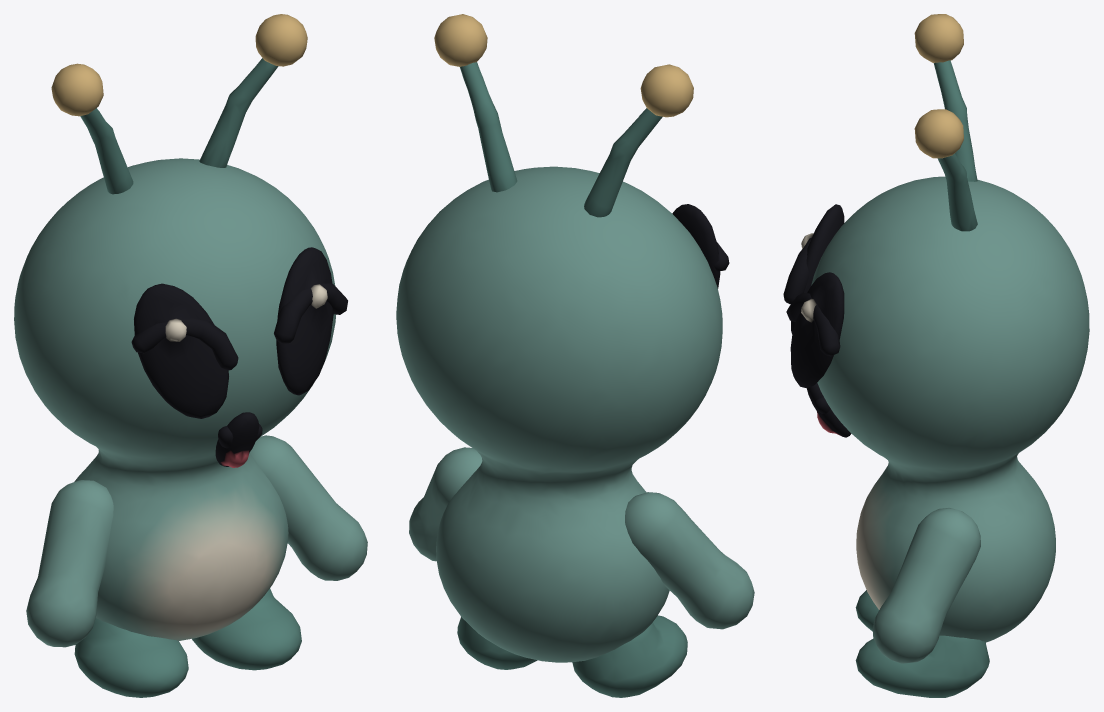
Rendered from rumling.glb.
3 renders of one model, left to right at view 1: azimuth 30°, elevation 25°; view 2: azimuth 150°, elevation 25°; view 3: azimuth 270°, elevation 25°, orthographic. The views are drawn at different scales.
Parts seen in each view (by area): view 1: body_mesh, arm_L_mesh, arm_R_mesh, eye_L, foot_L_mesh, eye_R, foot_R_mesh, antennae, antenna_tips, lid_L, lid_R, mouth_open; view 2: body_mesh, arm_L_mesh, antennae, foot_L_mesh, antenna_tips, arm_R_mesh, foot_R_mesh, eye_L; view 3: body_mesh, arm_R_mesh, foot_R_mesh, antenna_tips, eye_R, antennae, eye_L, lid_R, lid_L, mouth_open, foot_L_mesh.
Boxes of the visible parts, left/top/right/bottom form: body_mesh: left=14, top=158, right=335, bottom=640; arm_L_mesh: left=26, top=480, right=113, bottom=647; arm_R_mesh: left=249, top=435, right=367, bottom=580; eye_L: left=134, top=283, right=228, bottom=418; foot_L_mesh: left=74, top=618, right=188, bottom=697; eye_R: left=276, top=247, right=333, bottom=395; foot_R_mesh: left=192, top=588, right=301, bottom=670; antennae: left=80, top=58, right=278, bottom=194; antenna_tips: left=51, top=14, right=307, bottom=116; lid_L: left=131, top=318, right=238, bottom=370; lid_R: left=274, top=283, right=347, bottom=343; mouth_open: left=215, top=412, right=259, bottom=467; body_mesh: left=396, top=166, right=722, bottom=662; arm_L_mesh: left=625, top=492, right=754, bottom=629; antennae: left=460, top=62, right=662, bottom=217; foot_L_mesh: left=572, top=615, right=687, bottom=697; antenna_tips: left=434, top=14, right=693, bottom=117; arm_R_mesh: left=409, top=447, right=482, bottom=561; foot_R_mesh: left=457, top=617, right=537, bottom=669; eye_L: left=672, top=204, right=720, bottom=288; body_mesh: left=811, top=176, right=1089, bottom=642; arm_R_mesh: left=872, top=508, right=980, bottom=663; foot_R_mesh: left=855, top=635, right=989, bottom=697; antenna_tips: left=914, top=14, right=963, bottom=158; eye_R: left=790, top=272, right=844, bottom=387; antennae: left=933, top=60, right=977, bottom=231; eye_L: left=791, top=204, right=844, bottom=333; lid_R: left=786, top=293, right=840, bottom=356; lid_L: left=783, top=237, right=811, bottom=304; mouth_open: left=806, top=383, right=851, bottom=437; foot_L_mesh: left=855, top=590, right=879, bottom=631.
Bounding box in the file's own units: 0.3437 × 0.6233 × 0.2863.
